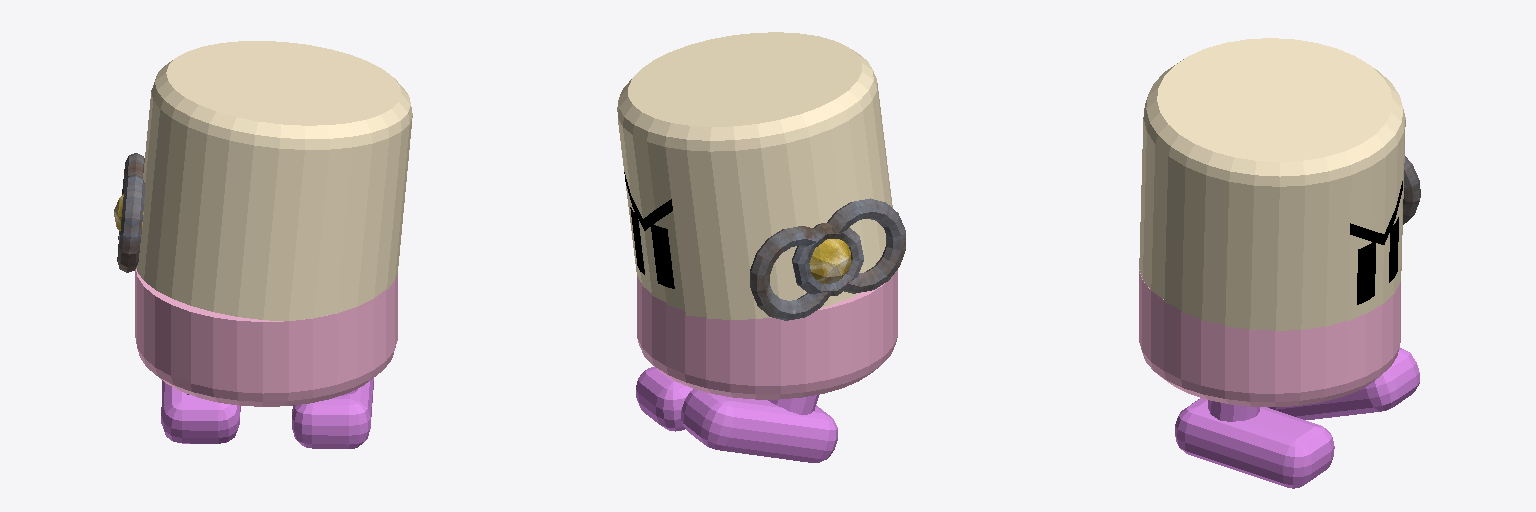
The picture shows the model from 3 angles: view 1: azimuth 30°, elevation 25°; view 2: azimuth 150°, elevation 25°; view 3: azimuth 270°, elevation 25°; orthographic projection.
Parts seen in each view (by area): view 1: Head, Jaw, RightLeg, LeftLeg, WindupKey; view 2: Head, Jaw, WindupKey, LeftLeg, RightLeg; view 3: Head, Jaw, RightLeg, LeftLeg, WindupKey.
Boxes of the visible parts, box(x1,y1,x2,y2) form: Head: box(136, 41, 412, 320); Jaw: box(135, 269, 397, 406); RightLeg: box(292, 378, 373, 448); LeftLeg: box(161, 380, 240, 443); WindupKey: box(114, 153, 144, 272); Head: box(617, 32, 892, 319); Jaw: box(637, 270, 897, 399); WindupKey: box(750, 198, 905, 320); LeftLeg: box(681, 389, 837, 462); RightLeg: box(636, 367, 692, 431); Head: box(1139, 38, 1405, 330); Jaw: box(1139, 270, 1400, 406); RightLeg: box(1175, 398, 1334, 488); LeftLeg: box(1267, 348, 1419, 419); WindupKey: box(1403, 156, 1420, 224).
Bounding box in the file's own units: 120 × 152 × 107.
6 materials, 2 textured.